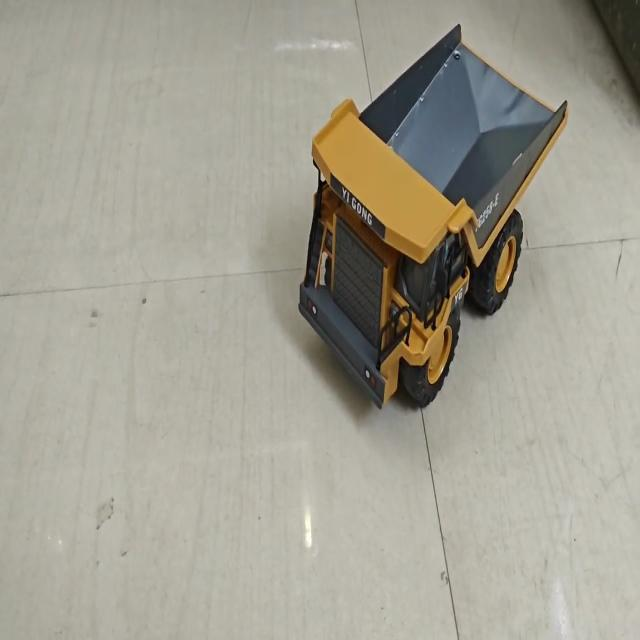dump_truck: (282, 20, 569, 420)
